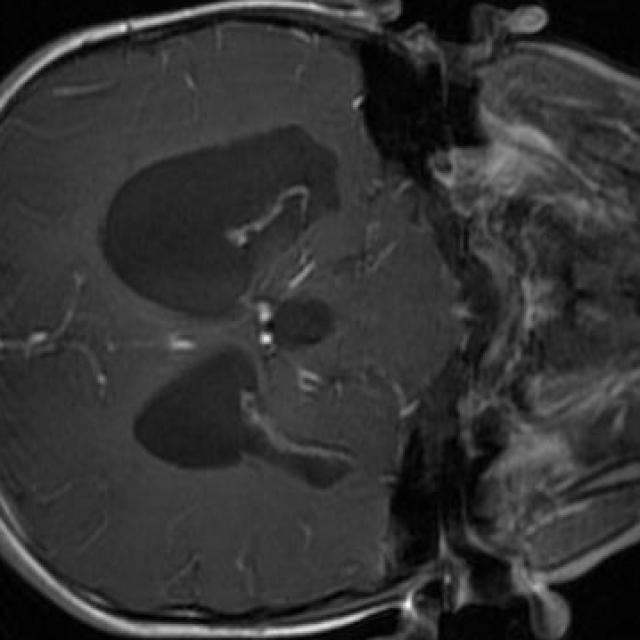glioma: (96, 125, 341, 316)
